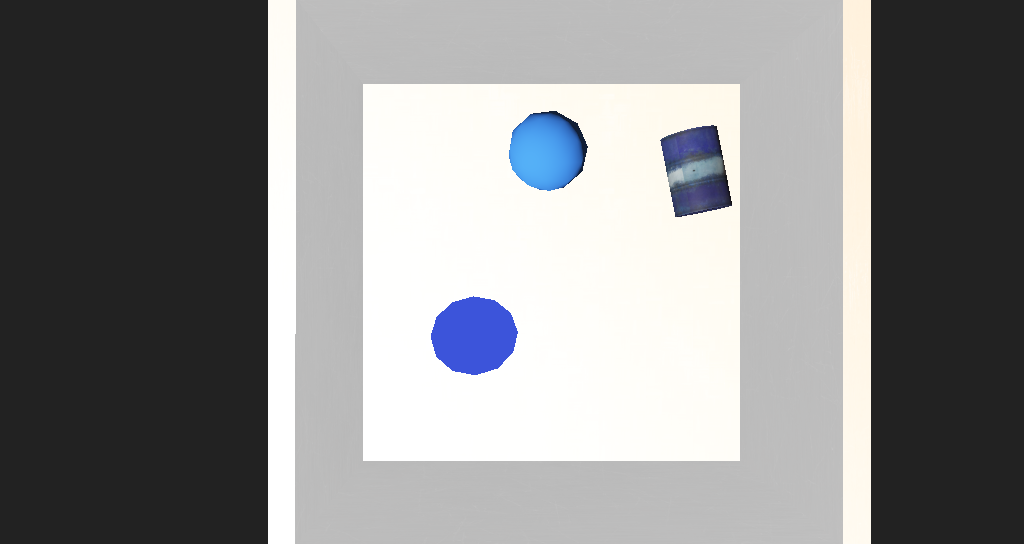cone: (586, 188, 653, 241)
cylinder: (408, 282, 482, 348)
sphere: (475, 177, 536, 224)
